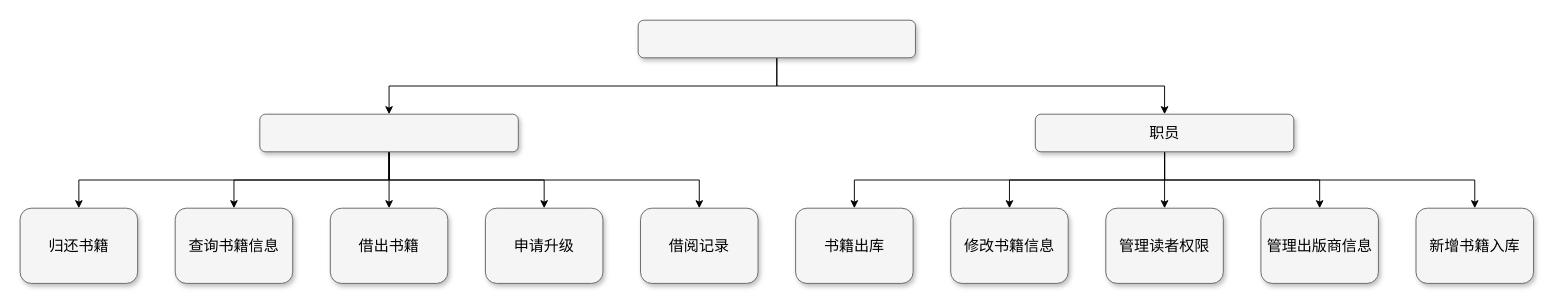
The diagram is 1556 pixels wide and 306 high, and some of its shapes have lost their labels. Each missing label, with the centre of its shape:
用户: point (777, 40)
读者: point (389, 134)
